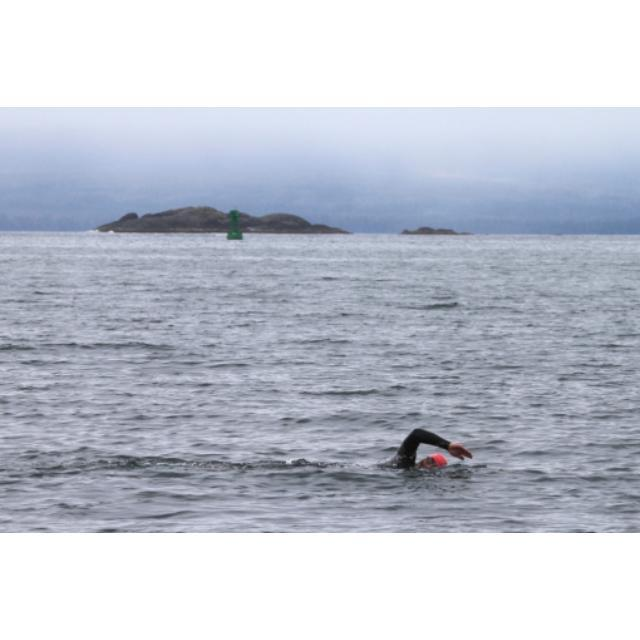human: (373, 422, 477, 475)
